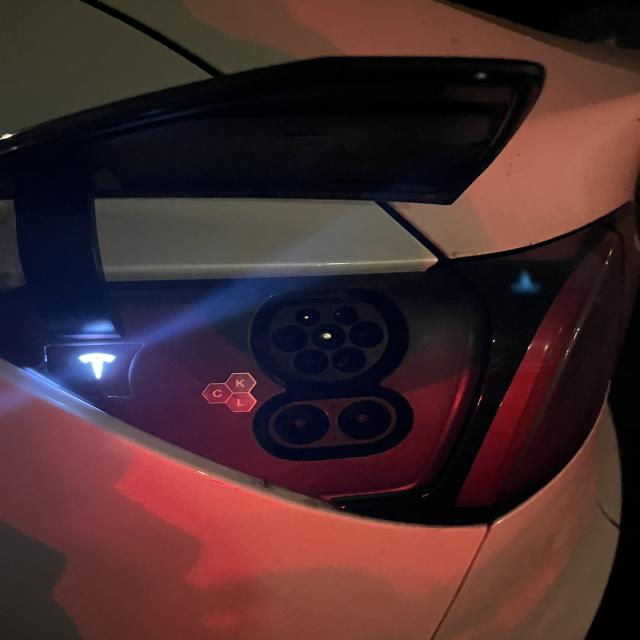inlet: (268, 302, 388, 381)
inlet-above-left: (295, 308, 322, 327)
inlet-above-right: (334, 306, 359, 325)
inlet-below-left: (294, 349, 329, 375)
inlet-below-right: (332, 346, 366, 373)
inlet-circle: (311, 323, 346, 350)
inlet-circle-left: (273, 325, 308, 351)
inlet-circle-right: (349, 321, 384, 349)
inlet-minus: (337, 400, 392, 440)
inlet-plus: (274, 404, 330, 445)
